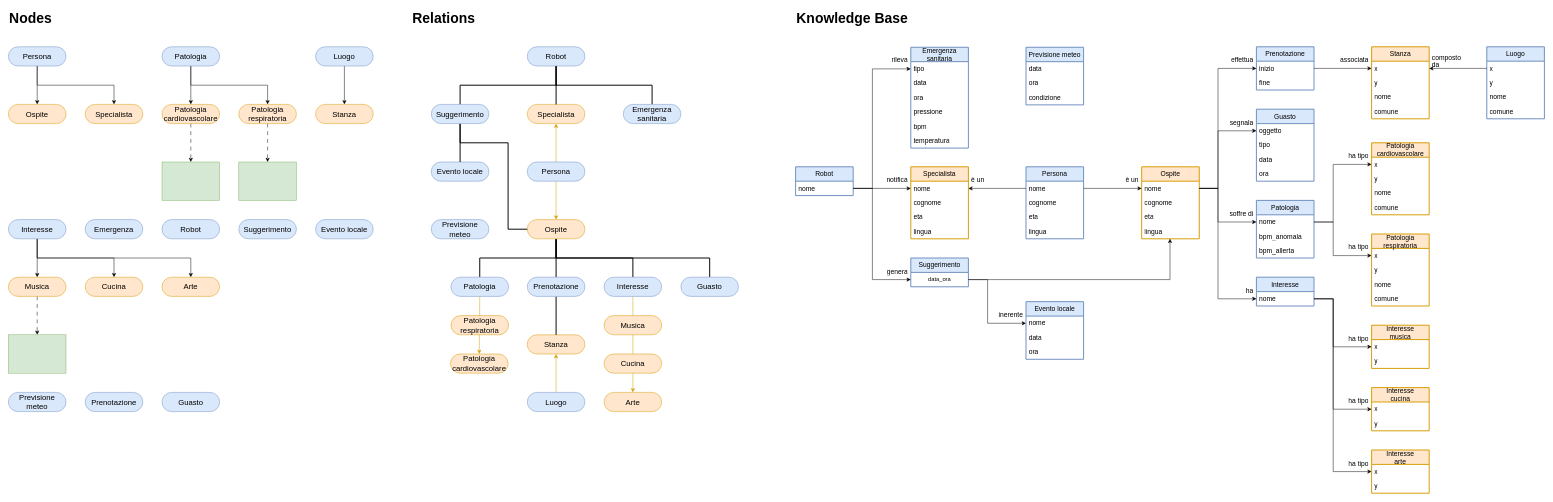
The diagram is 1553 pixels wide and 502 high, and some of its shapes have lost their labels. The centre of each missing label's shape, as x and y in pixels:
"Asma ..." goes at pixel 267 181.
"Brachicardia Tachicardia ..." goes at pixel 191 181.
"Classica Metal Pop ..." goes at pixel 37 353.
